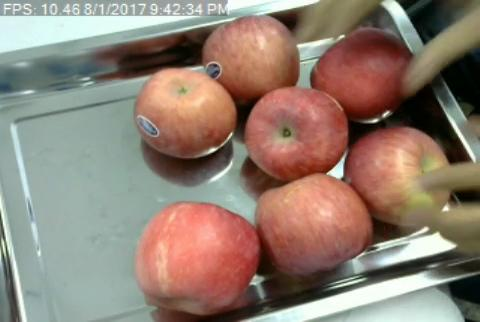apple: (134, 199, 262, 316), (256, 172, 372, 277), (349, 125, 449, 226), (244, 87, 348, 180), (134, 67, 238, 159), (312, 27, 412, 121), (202, 14, 299, 94)
